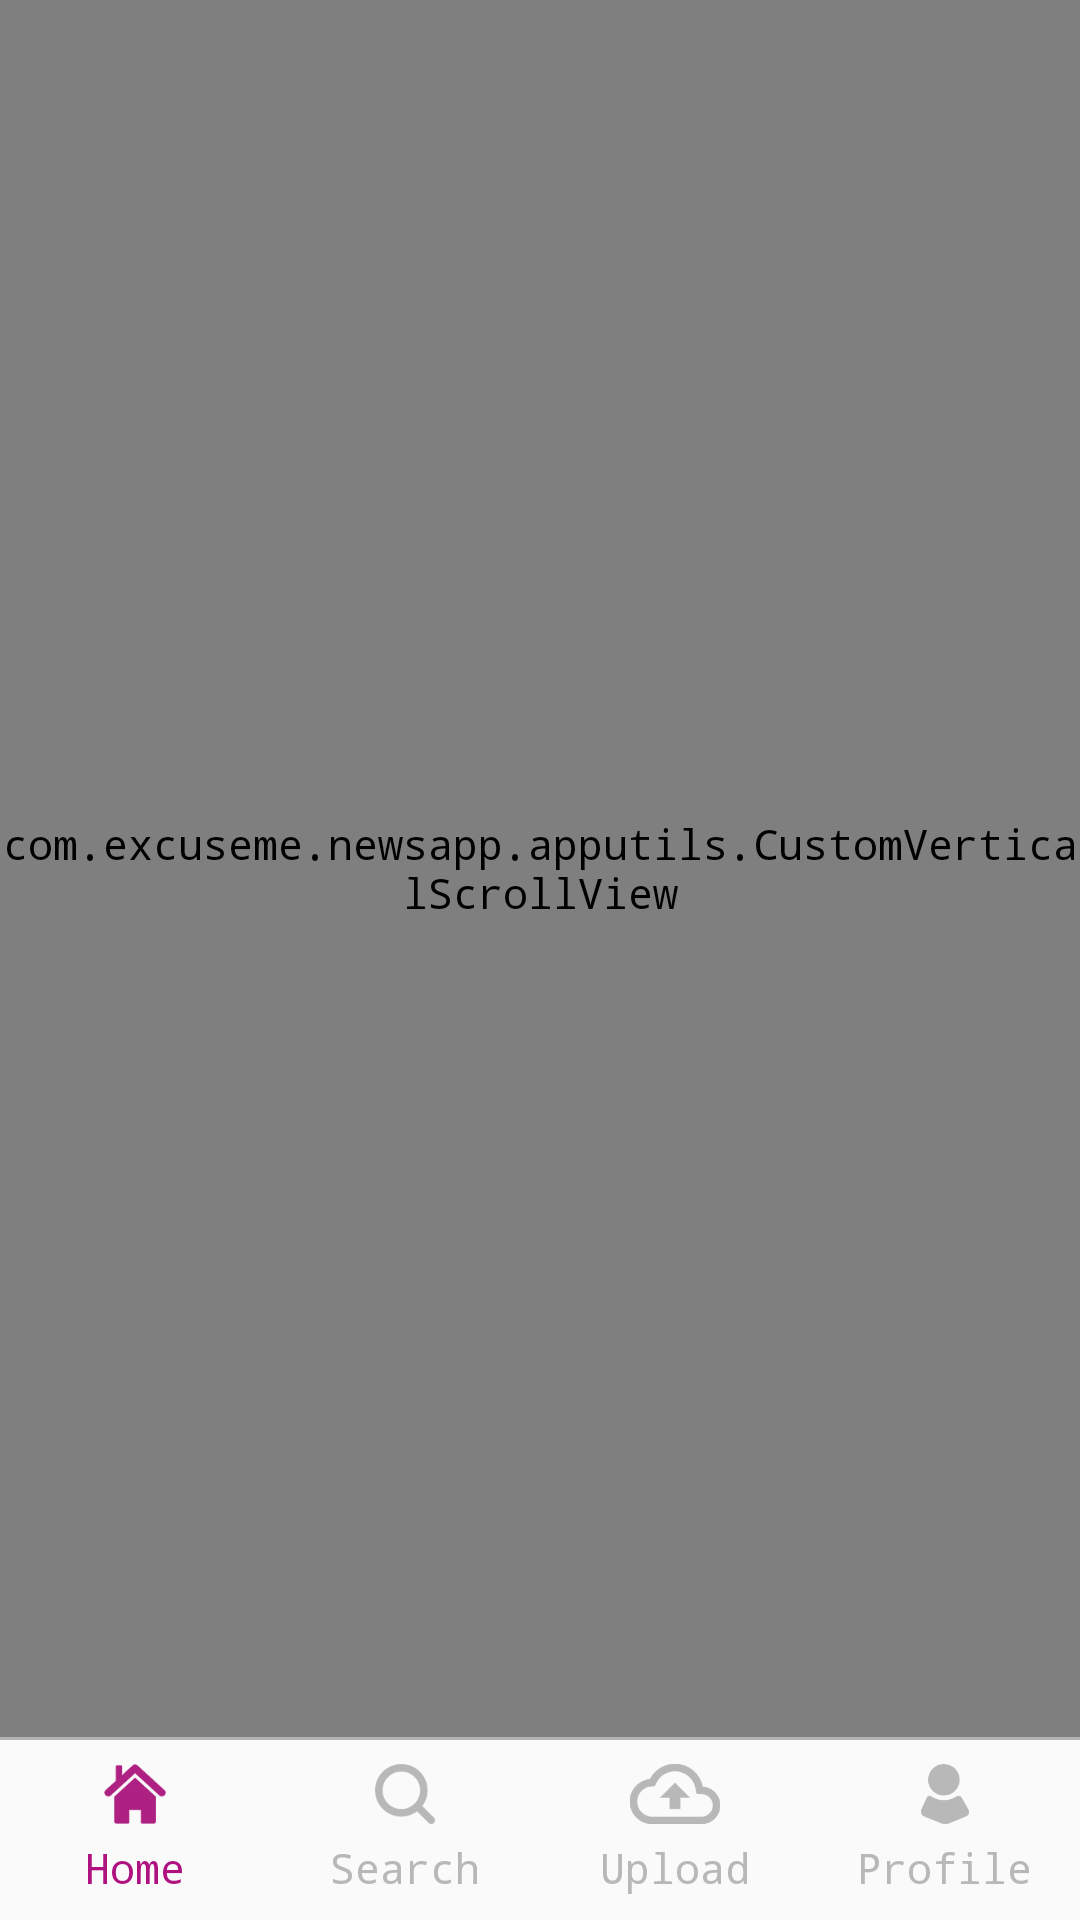

Where to tap for icons on this 1080w x 1920h app screen, as (x=x, y=y):
user: (x=945, y=1794)
